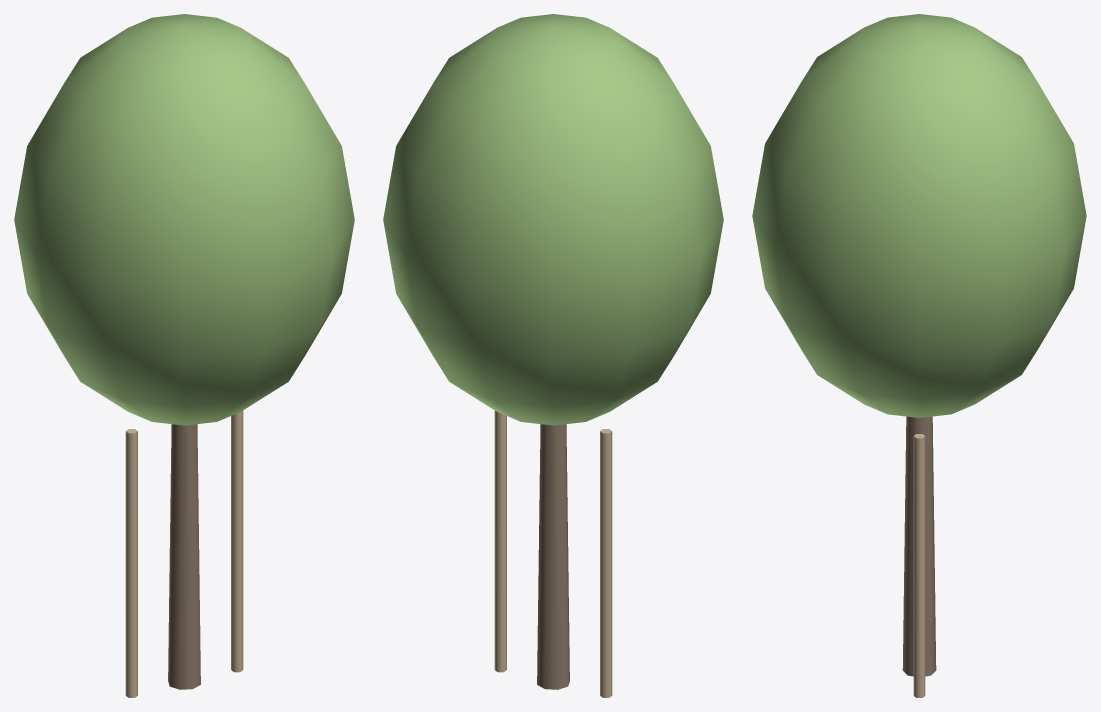
The model's file is tree_young.glb.
The picture shows the model from 3 angles, left to right: view 1: azimuth 30°, elevation 25°; view 2: azimuth 150°, elevation 25°; view 3: azimuth 270°, elevation 25°; orthographic projection.
Visible parts, largest first — view 1: tint_leaves, bark, stake; view 2: tint_leaves, bark, stake; view 3: tint_leaves, bark, stake.
Part boxes in pixels (<box>): tint_leaves: <box>14,14,354,425</box>; bark: <box>168,424,200,689</box>; stake: <box>125,410,243,697</box>; tint_leaves: <box>383,14,723,425</box>; bark: <box>537,424,569,689</box>; stake: <box>494,410,612,697</box>; tint_leaves: <box>752,14,1086,417</box>; bark: <box>902,416,936,676</box>; stake: <box>913,434,925,697</box>.
Bounding box in the file's own units: 1.4 × 2.97 × 1.4.
